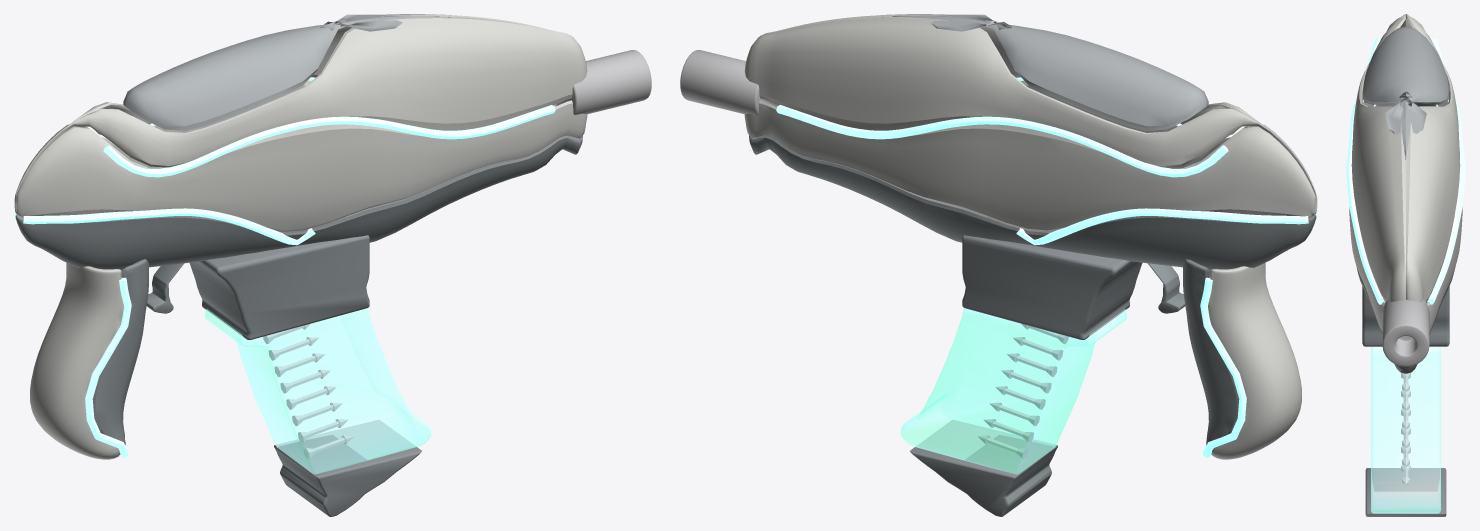
Rendered from pistolet_flechettes_c.glb.
3 renders of one model, left to right at view 1: azimuth 30°, elevation 25°; view 2: azimuth 150°, elevation 25°; view 3: azimuth 270°, elevation 25°, orthographic. The views are drawn at different scales.
Parts seen in each view (by area): view 1: SM_Weapon_FlechettePistol_B_Coque, SM_Weapon_FlechettePistol_B_Verre; view 2: SM_Weapon_FlechettePistol_B_Coque, SM_Weapon_FlechettePistol_B_Verre; view 3: SM_Weapon_FlechettePistol_B_Coque, SM_Weapon_FlechettePistol_B_Verre.
Boxes of the visible parts, x1,y1,x2,y2 form: SM_Weapon_FlechettePistol_B_Coque: (14,14,651,516); SM_Weapon_FlechettePistol_B_Verre: (205,308,431,474); SM_Weapon_FlechettePistol_B_Coque: (680,14,1317,516); SM_Weapon_FlechettePistol_B_Verre: (900,308,1126,474); SM_Weapon_FlechettePistol_B_Coque: (1346,14,1465,516); SM_Weapon_FlechettePistol_B_Verre: (1371,346,1440,513).
Bounding box in the file's own units: 0.2986 × 0.2165 × 0.0547.
